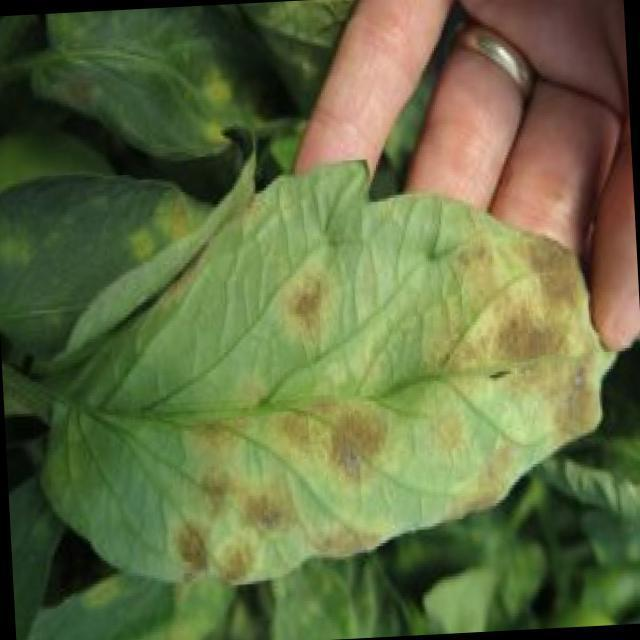Mosaic Virus: (125, 235, 626, 582), (0, 176, 212, 270), (176, 53, 248, 156)
